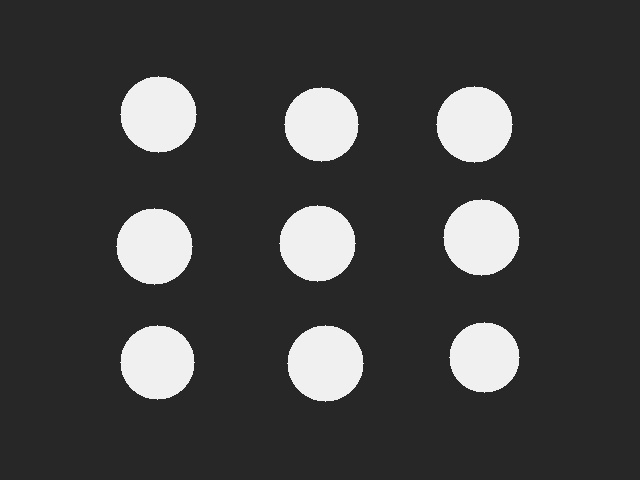hole: (120, 76, 196, 152), (436, 86, 512, 162), (116, 208, 192, 284), (279, 205, 355, 281), (443, 199, 519, 275), (287, 325, 363, 401), (284, 87, 358, 161), (120, 325, 194, 399), (449, 322, 519, 392)
